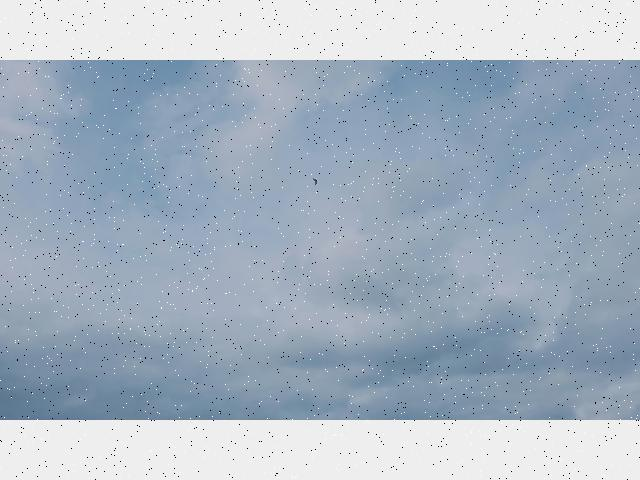Anti-Drone: (308, 175, 322, 187)
